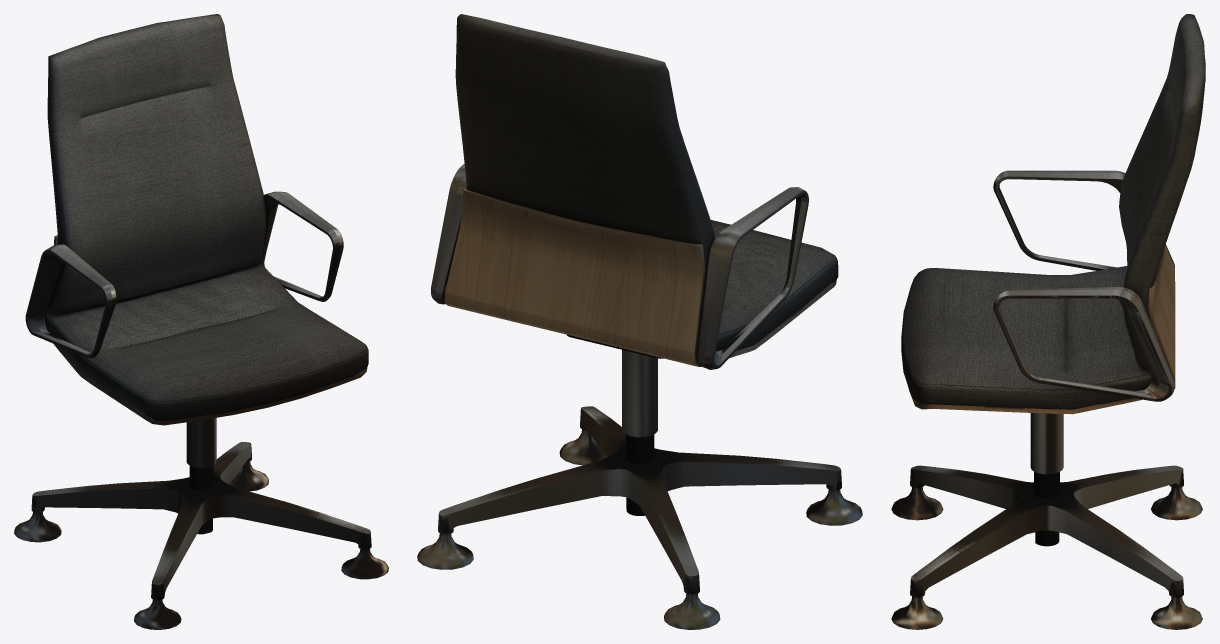
Rendered from CR_Chair_02.FBX.
The picture shows the model from 3 angles, left to right: view 1: azimuth 30°, elevation 25°; view 2: azimuth 150°, elevation 25°; view 3: azimuth 270°, elevation 25°; orthographic projection. The views are drawn at different scales.
Visible parts, largest first — view 1: CR_Chair_02; view 2: CR_Chair_02; view 3: CR_Chair_02.
Part boxes in pixels (left/top/right/bottom): CR_Chair_02: left=14, top=14, right=388, bottom=629; CR_Chair_02: left=417, top=14, right=862, bottom=629; CR_Chair_02: left=891, top=14, right=1205, bottom=629.
Size of the model in its own units: 73.84 by 133 by 74.48.
